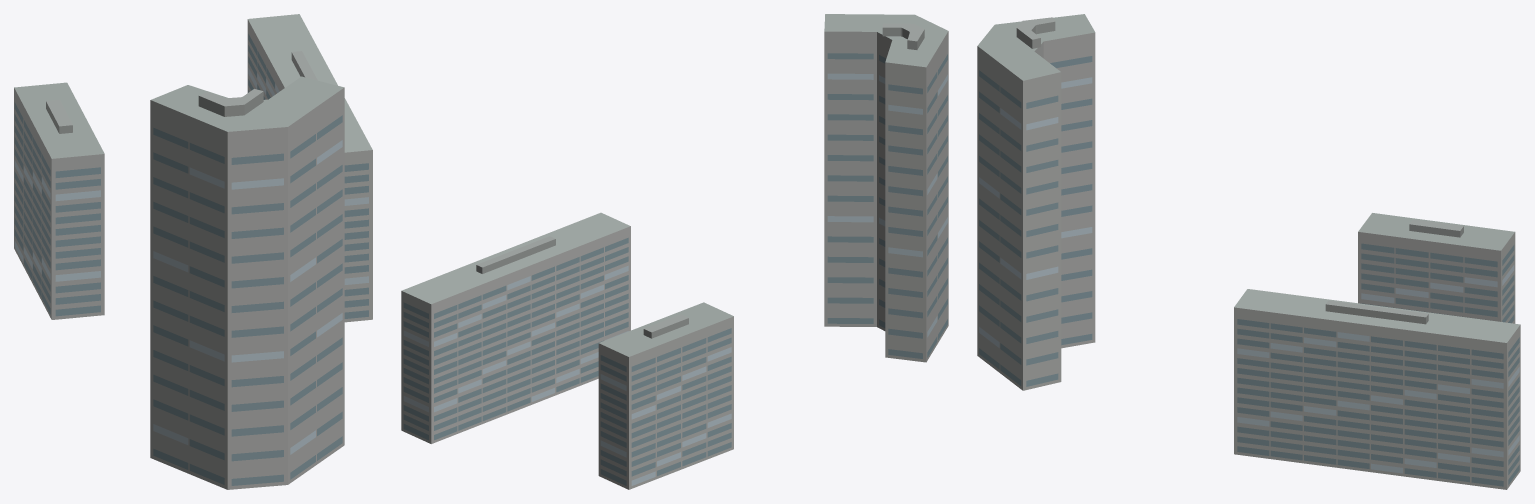
Rendered from apt-a15602001.glb.
3 renders of one model, left to right at view 1: azimuth 30°, elevation 25°; view 2: azimuth 150°, elevation 25°; view 3: azimuth 270°, elevation 25°, orthographic. The views are drawn at different scales.
Parts seen in each view (by area): view 1: apt-a15602001; view 2: apt-a15602001; view 3: apt-a15602001.
Part boxes in pixels (x1,y1,x2,y2): apt-a15602001: (14,14,372,489); apt-a15602001: (401,14,948,489); apt-a15602001: (977,14,1520,489).
Bounding box in the file's own units: 92.57 × 83 × 128.
